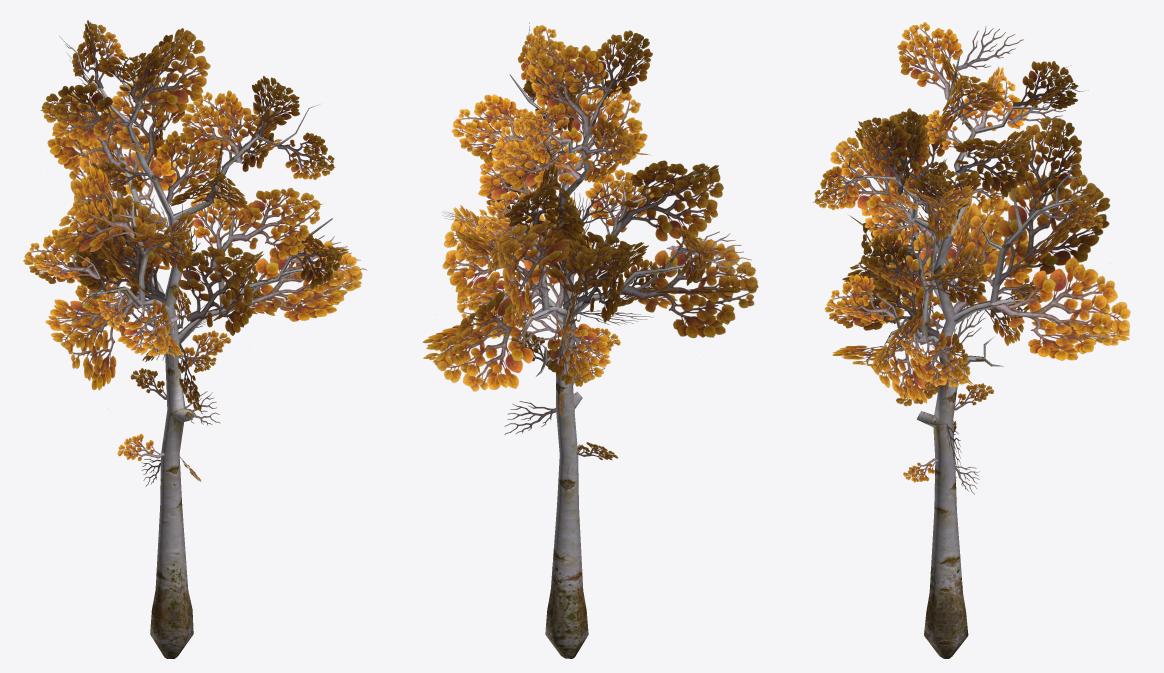
Rendered from tree.glb.
3 renders of one model, left to right at view 1: azimuth 30°, elevation 25°; view 2: azimuth 150°, elevation 25°; view 3: azimuth 270°, elevation 25°, orthographic. The views are drawn at different scales.
Parts seen in each view (by area): view 1: crystalsongaspentree02; view 2: crystalsongaspentree02; view 3: crystalsongaspentree02.
Part boxes in pixels (x1,y1,x2,y2): crystalsongaspentree02: [23, 20, 367, 658]; crystalsongaspentree02: [422, 22, 758, 658]; crystalsongaspentree02: [812, 22, 1130, 658].
Bounding box in the file's own units: 8.88 × 15.75 × 7.95.
3 materials, 3 textured.
